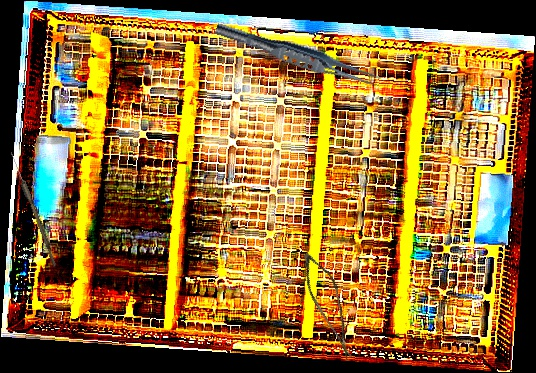Micro Scissor: (285, 248, 377, 364)
Surgical Spoon: (7, 150, 60, 268)
Tissue Forceps: (212, 19, 384, 92)
